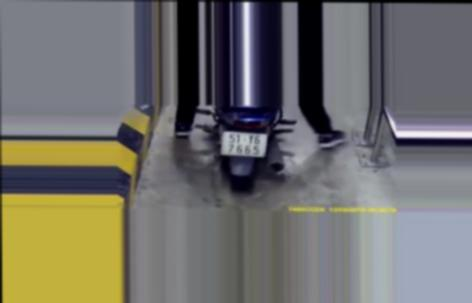License_Plate: (218, 130, 269, 163)
